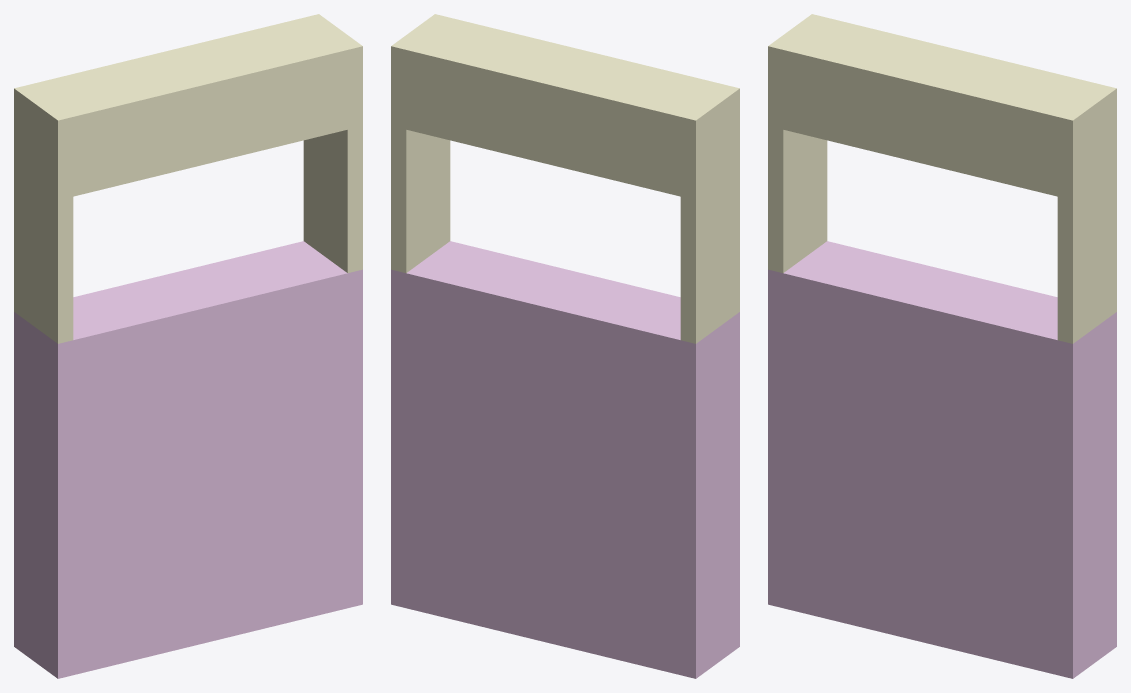
The model's file is Wall_A_Window_Large.glb.
3 views of the same model, side by side, from view 1: azimuth 30°, elevation 25°; view 2: azimuth 150°, elevation 25°; view 3: azimuth 330°, elevation 25° (orthographic).
Visible parts, largest first — view 1: Wall A Window Large; view 2: Wall A Window Large; view 3: Wall A Window Large.
Part boxes in pixels (bbox=[...]): Wall A Window Large: bbox=[14, 14, 362, 678]; Wall A Window Large: bbox=[391, 14, 739, 678]; Wall A Window Large: bbox=[768, 14, 1116, 678].
Size of the model in its own units: 2 by 3.5 by 0.5.
